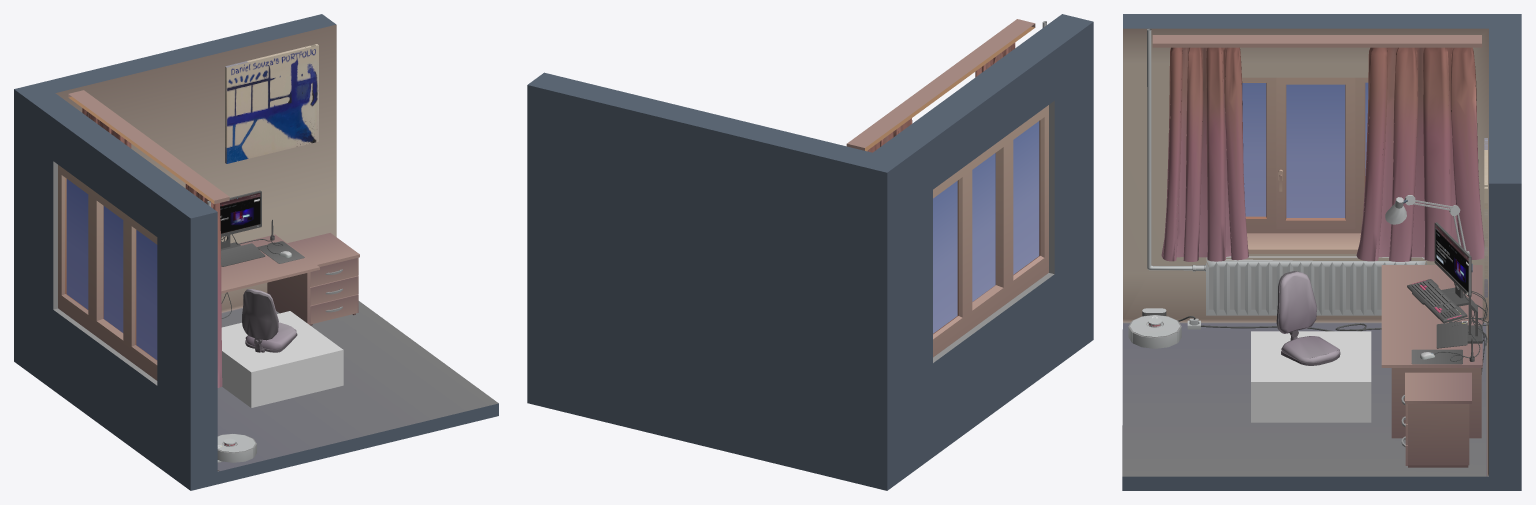
The model's file is optimized-room.glb.
3 views of the same model, side by side, from view 1: azimuth 30°, elevation 25°; view 2: azimuth 150°, elevation 25°; view 3: azimuth 270°, elevation 25° (orthographic). The views are drawn at different scales.
Visible parts, largest first — view 1: body1, Plane, window4, Cube, window, cabin, table, railing, chair_body, emis, _________6_blinn1_0, vacuum1 (+3 smaller); view 2: body1, window4, window, railing; view 3: body1, _________6_blinn1_0, window4, window, Cube, radiator, table, cabin, railing, pillows, vacuum1, radiator_blinn1_0.001 (+10 smaller).
Part boxes in pixels (bbox=[...]): body1: bbox=[14, 14, 498, 490]; Plane: bbox=[225, 44, 318, 163]; window4: bbox=[66, 179, 157, 359]; Cube: bbox=[221, 311, 343, 407]; window: bbox=[58, 165, 157, 380]; cabin: bbox=[287, 233, 359, 325]; table: bbox=[221, 234, 319, 324]; railing: bbox=[68, 90, 229, 204]; chair_body: bbox=[242, 290, 297, 352]; emis: bbox=[218, 193, 281, 447]; _________6_blinn1_0: bbox=[82, 108, 222, 387]; vacuum1: bbox=[217, 434, 256, 462]; body1: bbox=[527, 14, 1093, 490]; window4: bbox=[933, 121, 1039, 333]; window: bbox=[933, 105, 1048, 357]; railing: bbox=[846, 19, 1035, 151]; body1: bbox=[1122, 14, 1521, 490]; _________6_blinn1_0: bbox=[1161, 47, 1484, 261]; window4: bbox=[1242, 82, 1368, 217]; window: bbox=[1242, 77, 1368, 253]; Cube: bbox=[1251, 331, 1371, 422]; radiator: bbox=[1206, 256, 1426, 315]; table: bbox=[1381, 265, 1482, 438]; cabin: bbox=[1405, 372, 1471, 467]; railing: bbox=[1152, 35, 1481, 47]; pillows: bbox=[1278, 271, 1339, 362]; vacuum1: bbox=[1128, 308, 1198, 348]; radiator_blinn1_0.001: bbox=[1147, 28, 1205, 271].
Size of the model in its own units: 6.68 by 6.66 by 6.65.
Materials: 5 (2 with a texture image).
